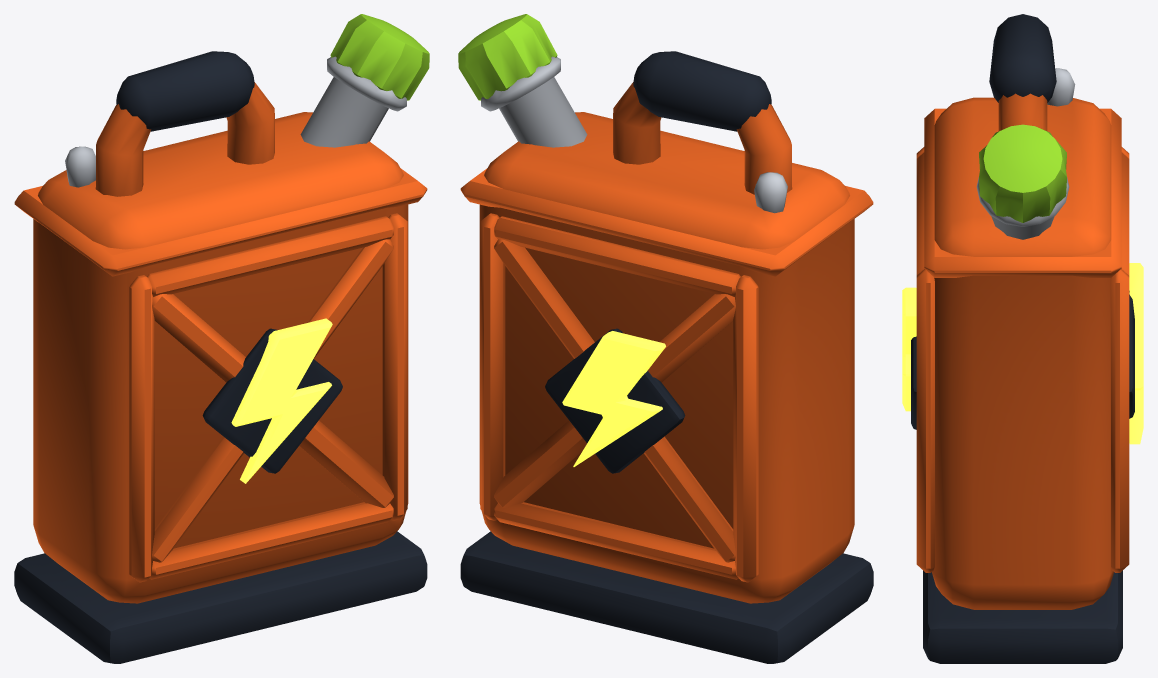
The model's file is boost-gasoline.glb.
3 renders of one model, left to right at view 1: azimuth 30°, elevation 25°; view 2: azimuth 150°, elevation 25°; view 3: azimuth 270°, elevation 25°, orthographic.
Parts seen in each view (by area): view 1: Boost gasoline Fuel orange, Boost gasoline Can charcoal, Fuel lightning emblem, Boost gasoline Brushed alloy, Boost gasoline Fuel cap lime; view 2: Boost gasoline Fuel orange, Boost gasoline Can charcoal, Fuel lightning emblem, Boost gasoline Brushed alloy, Boost gasoline Fuel cap lime; view 3: Boost gasoline Fuel orange, Boost gasoline Can charcoal, Boost gasoline Fuel cap lime, Fuel lightning emblem, Boost gasoline Brushed alloy.
Boxes of the visible parts, x1=… form: Boost gasoline Fuel orange: x1=14, y1=82, x2=427, y2=603; Boost gasoline Can charcoal: x1=14, y1=51, x2=427, y2=663; Fuel lightning emblem: x1=231, y1=318, x2=332, y2=483; Boost gasoline Brushed alloy: x1=65, y1=56, x2=406, y2=187; Boost gasoline Fuel cap lime: x1=330, y1=14, x2=429, y2=100; Boost gasoline Fuel orange: x1=460, y1=82, x2=873, y2=603; Boost gasoline Can charcoal: x1=460, y1=51, x2=873, y2=663; Fuel lightning emblem: x1=562, y1=331, x2=665, y2=466; Boost gasoline Brushed alloy: x1=481, y1=56, x2=787, y2=213; Boost gasoline Fuel cap lime: x1=458, y1=14, x2=557, y2=100; Boost gasoline Fuel orange: x1=916, y1=93, x2=1129, y2=609; Boost gasoline Can charcoal: x1=911, y1=14, x2=1134, y2=663; Boost gasoline Fuel cap lime: x1=979, y1=124, x2=1066, y2=222; Fuel lightning emblem: x1=902, y1=263, x2=1143, y2=444; Boost gasoline Brushed alloy: x1=976, y1=68, x2=1075, y2=239.
Bounding box in the file's own units: 0.7227 × 1.03 × 0.416.
